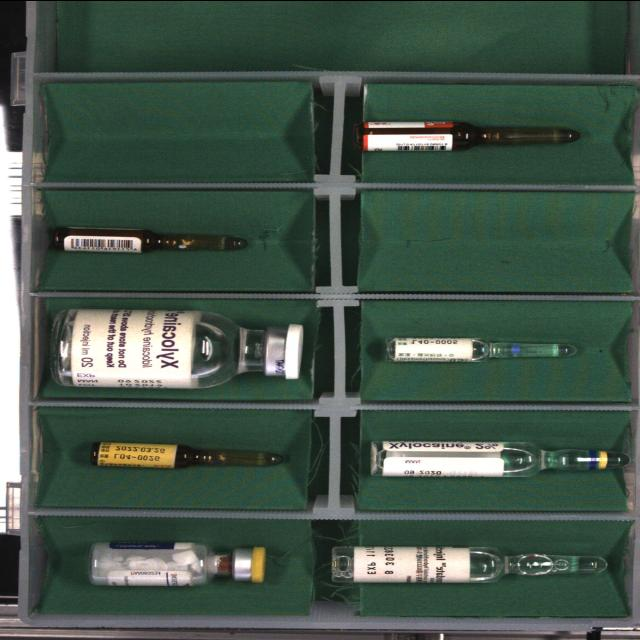Vials: (52, 308, 303, 388), (90, 541, 266, 585)
